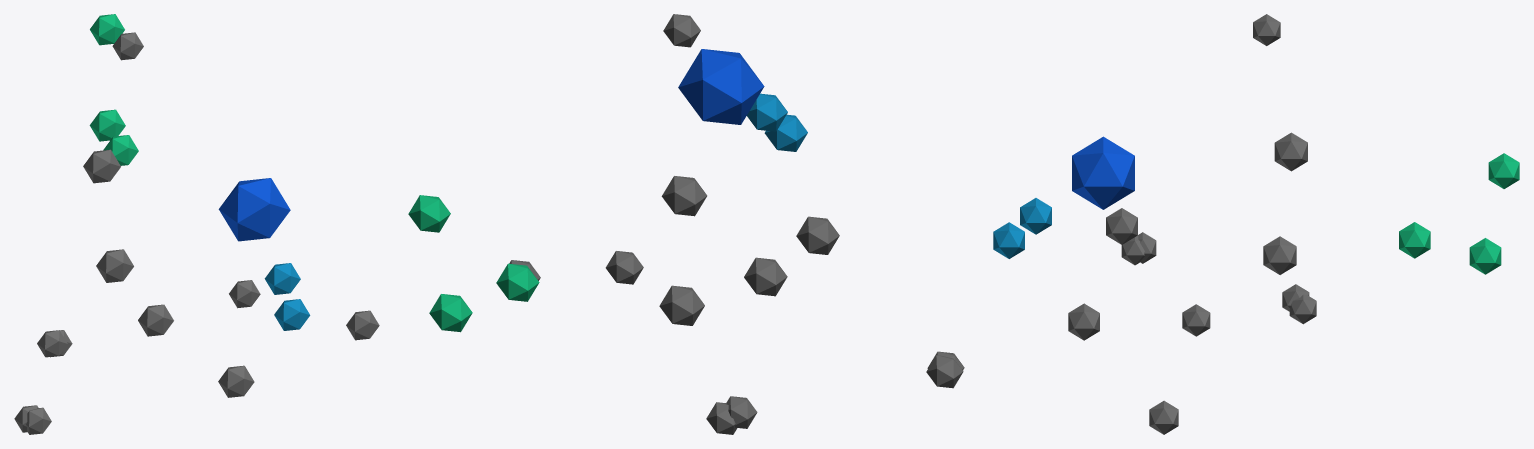
The picture shows the model from 3 angles, left to right: view 1: azimuth 30°, elevation 25°; view 2: azimuth 150°, elevation 25°; view 3: azimuth 270°, elevation 25°; orthographic projection. The views are drawn at different scales.
Parts seen in each view (by area): view 1: 08_05_08; view 2: 08_05_08; view 3: 08_05_08.
Boxes of the visible parts, x1=… form: 08_05_08: x1=14, y1=14, x2=379, y2=434; 08_05_08: x1=408, y1=14, x2=964, y2=434; 08_05_08: x1=993, y1=14, x2=1519, y2=434.
Bounding box in the file's own units: 0.4819 × 0.403 × 0.5827.
